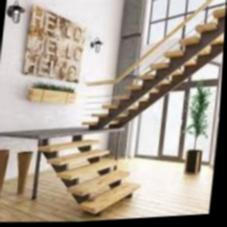Bench: (36, 125, 146, 218)
